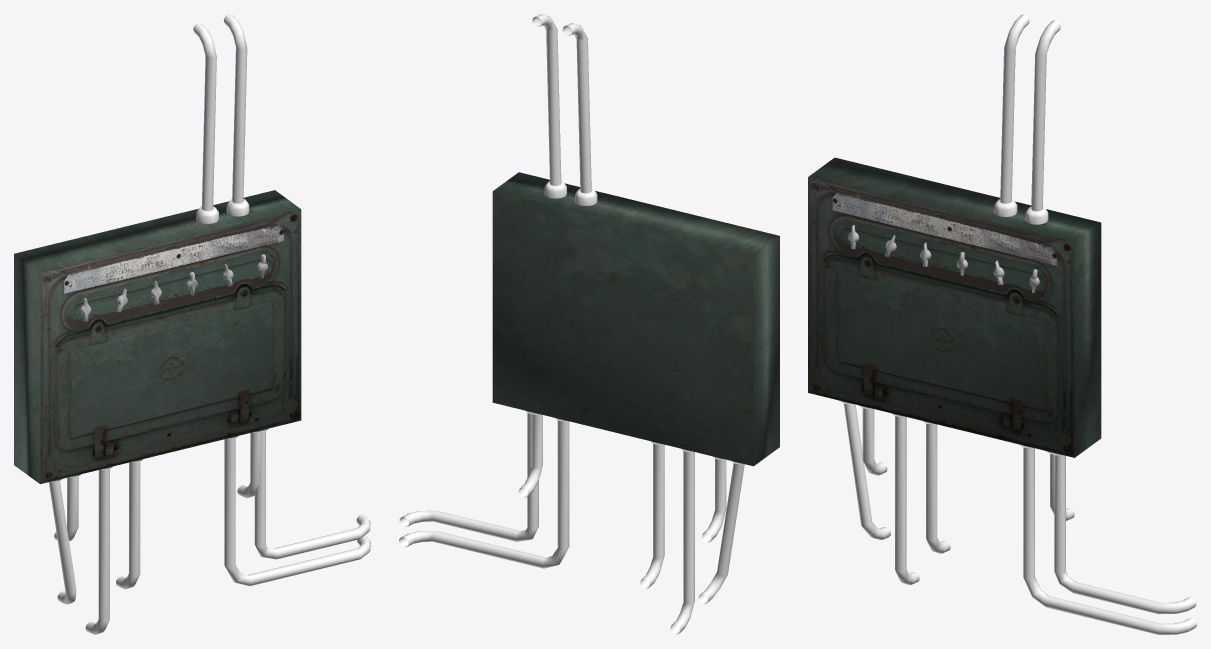
File: fuse_box_0002.fbx
The picture shows the model from 3 angles, left to right: view 1: azimuth 30°, elevation 25°; view 2: azimuth 150°, elevation 25°; view 3: azimuth 330°, elevation 25°; orthographic projection. The views are drawn at different scales.
Parts seen in each view (by area): view 1: fuse_box_0002, wires_04, wires_02, wires_01, wires_03, switches; view 2: fuse_box_0002, wires_04, wires_02, wires_01, wires_03; view 3: fuse_box_0002, wires_04, wires_01, wires_02, wires_03, switches.
Boxes of the visible parts, <box> form: fuse_box_0002: <box>14,190,301,484</box>; wires_04: <box>224,428,370,586</box>; wires_02: <box>193,14,249,223</box>; wires_01: <box>49,430,262,634</box>; wires_03: <box>54,462,140,630</box>; switches: <box>80,254,267,321</box>; fuse_box_0002: <box>492,172,779,466</box>; wires_04: <box>399,410,569,568</box>; wires_02: <box>532,14,597,205</box>; wires_01: <box>518,412,744,633</box>; wires_03: <box>640,443,726,634</box>; fuse_box_0002: <box>808,157,1101,457</box>; wires_04: <box>1020,444,1196,634</box>; wires_01: <box>840,400,1074,585</box>; wires_02: <box>994,14,1060,224</box>; wires_03: <box>859,405,950,580</box>; switches: <box>848,225,1039,292</box>.
Size of the model in its own units: 101 by 159 by 14.39.
